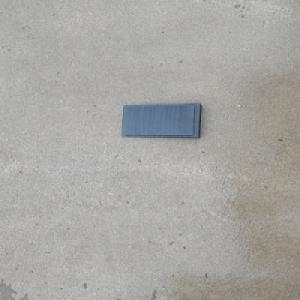PlasticPart: (119, 103, 203, 140)
